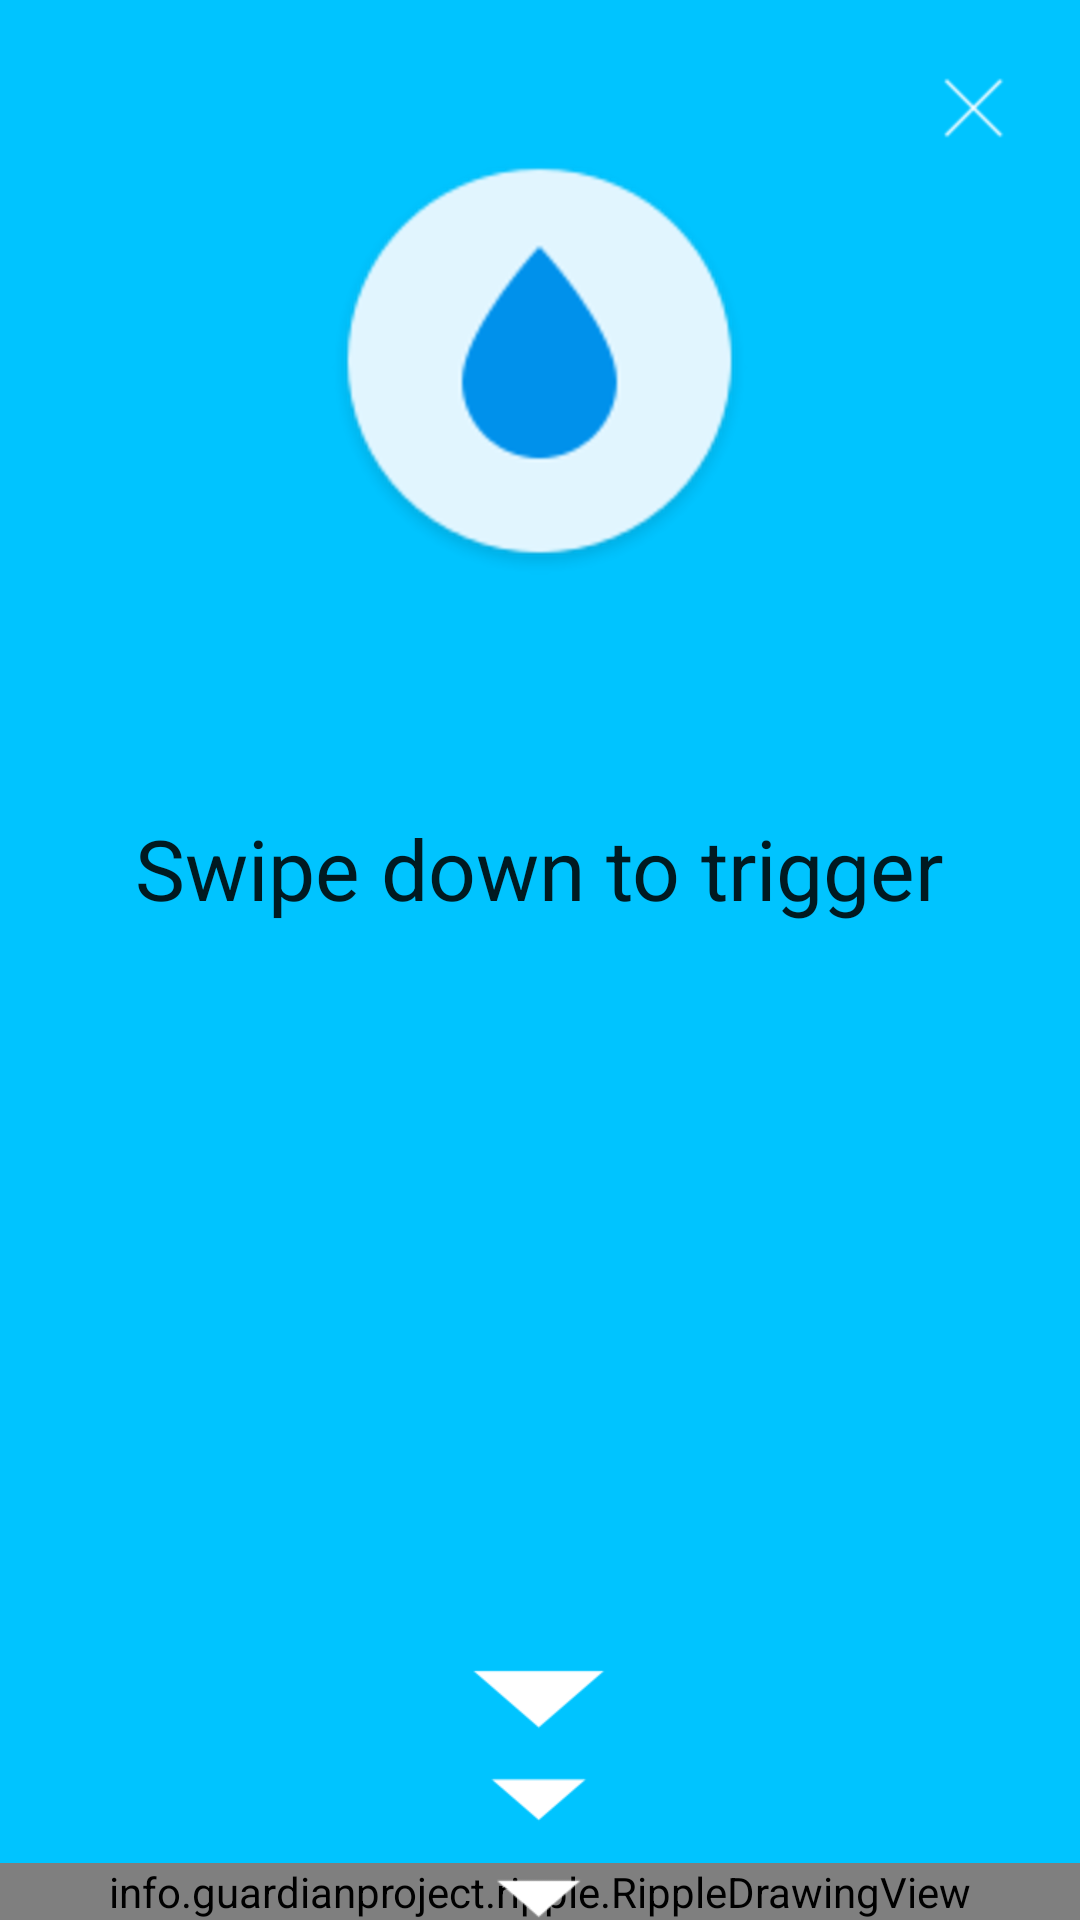

Screen size 1080*1920. Icon name, then its box in pixels as (x1, y1, x2, y2):
panic cancel: (944, 78, 1003, 137)
